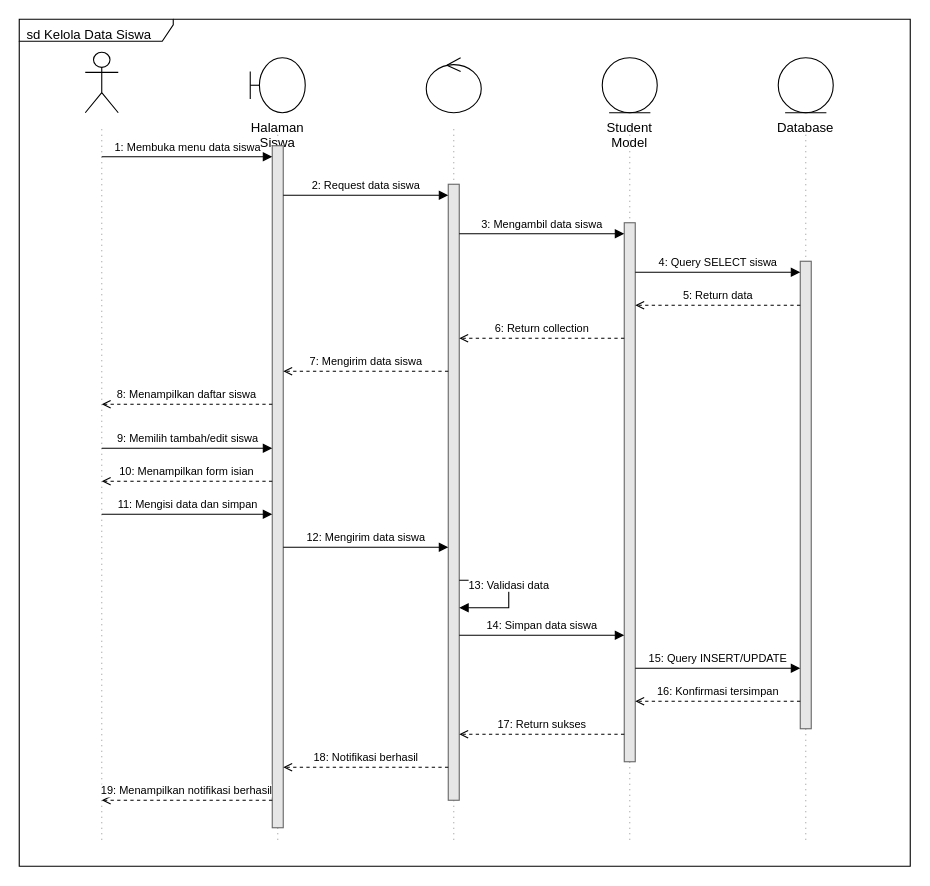
Image size: 930x886. Some labels were removed from this diagram. The shapes that lost their labels are listed below. From the top down, each one's centre as x and y in pixels, then its label:
At point (101, 82): "Admin".
At point (453, 85): "StudentController".
